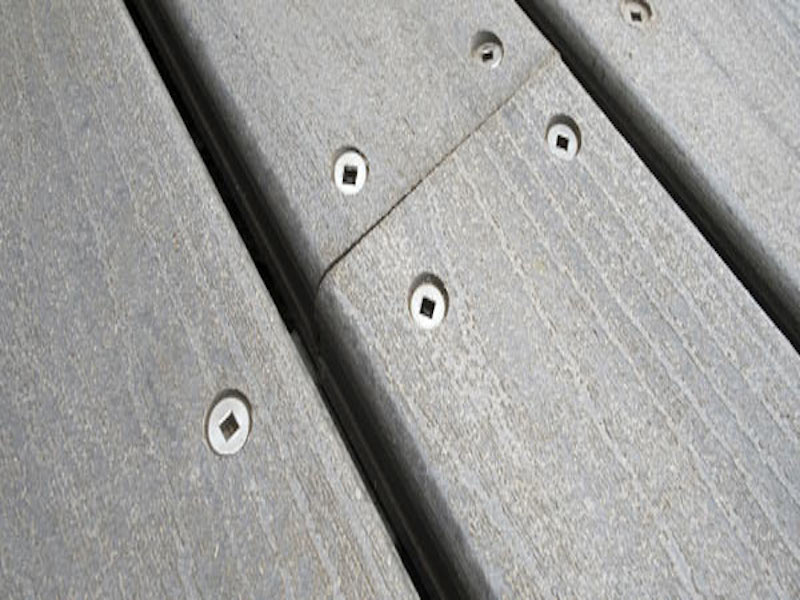screw: (204, 387, 252, 459), (409, 272, 449, 331), (329, 146, 369, 196), (546, 122, 581, 163), (472, 42, 504, 70), (621, 1, 652, 28)
